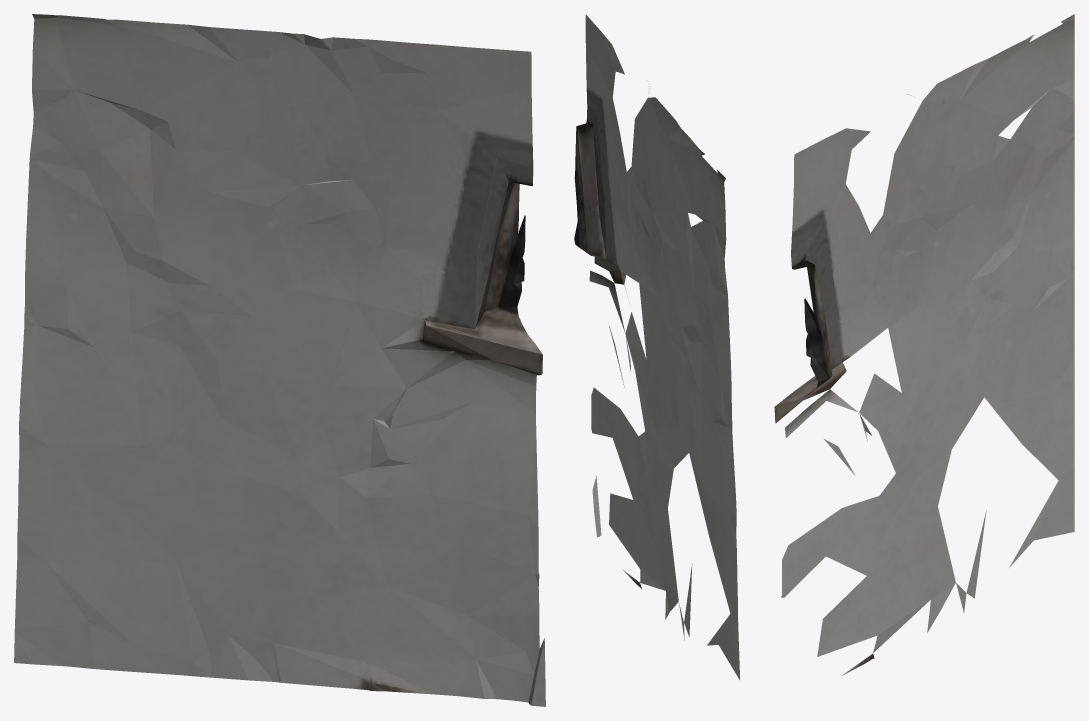
3 views of the same model, side by side, from view 1: azimuth 30°, elevation 25°; view 2: azimuth 150°, elevation 25°; view 3: azimuth 270°, elevation 25° (orthographic). The views are drawn at different scales.
Size of the model in its own units: 1.92 by 3.35 by 1.68.
2 materials, 2 textured.
